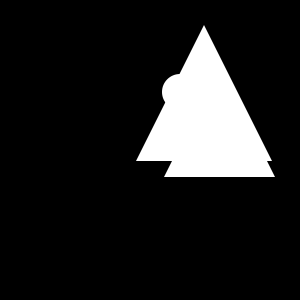rectangle: (162, 74, 198, 110)
triangle: (136, 25, 272, 161), (164, 66, 275, 177)
